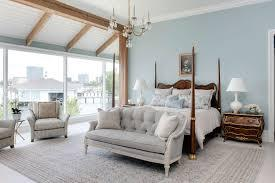bed: (111, 54, 225, 159)
chair: (28, 101, 72, 141), (0, 114, 19, 147)
light: (105, 0, 156, 48), (225, 76, 249, 114), (132, 78, 150, 105)
sofa: (80, 107, 188, 175)
table: (222, 112, 264, 147), (13, 119, 26, 142)
